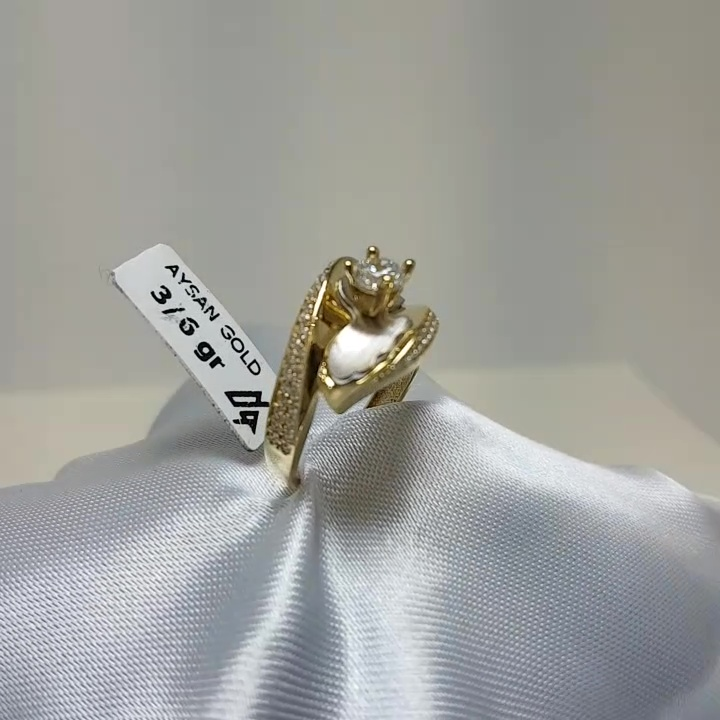Ring 6: (250, 232, 460, 513)
